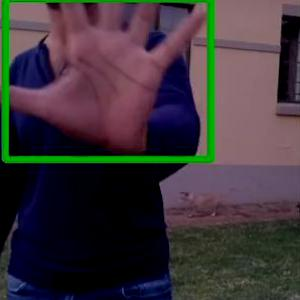follow_hand: (1, 0, 218, 158)
